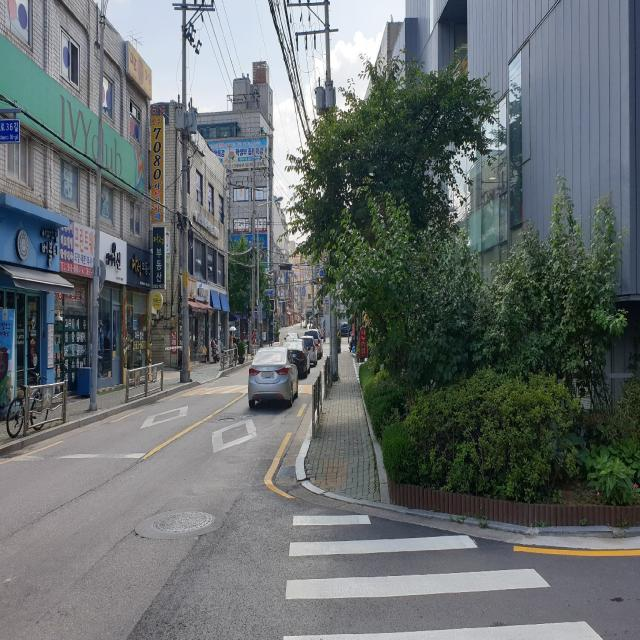횡단보도: (281, 509, 604, 640)
